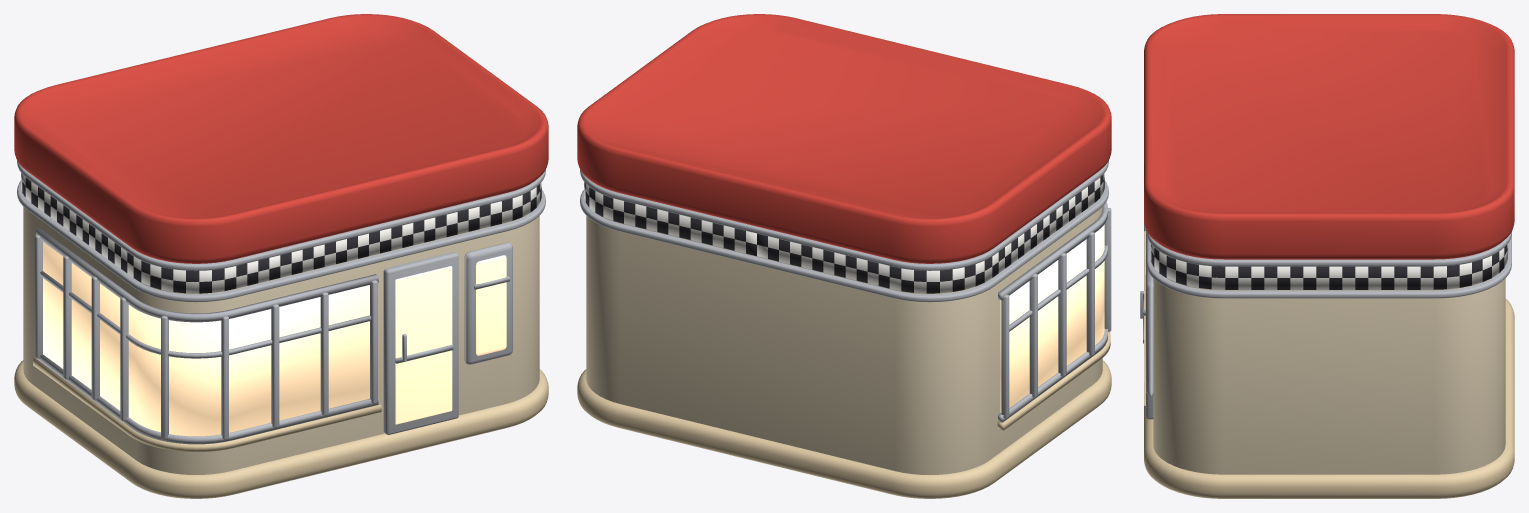
File: burger.glb
The picture shows the model from 3 angles, left to right: view 1: azimuth 30°, elevation 25°; view 2: azimuth 150°, elevation 25°; view 3: azimuth 270°, elevation 25°; orthographic projection.
Visible parts, largest first — view 1: burger; view 2: burger; view 3: burger.
Boxes of the visible parts, x1,y1,x2,y2 form: burger: [14, 14, 548, 498]; burger: [577, 14, 1111, 498]; burger: [1140, 14, 1514, 498].
Bounding box in the file's own units: 2.6 × 1.7 × 2.02.
